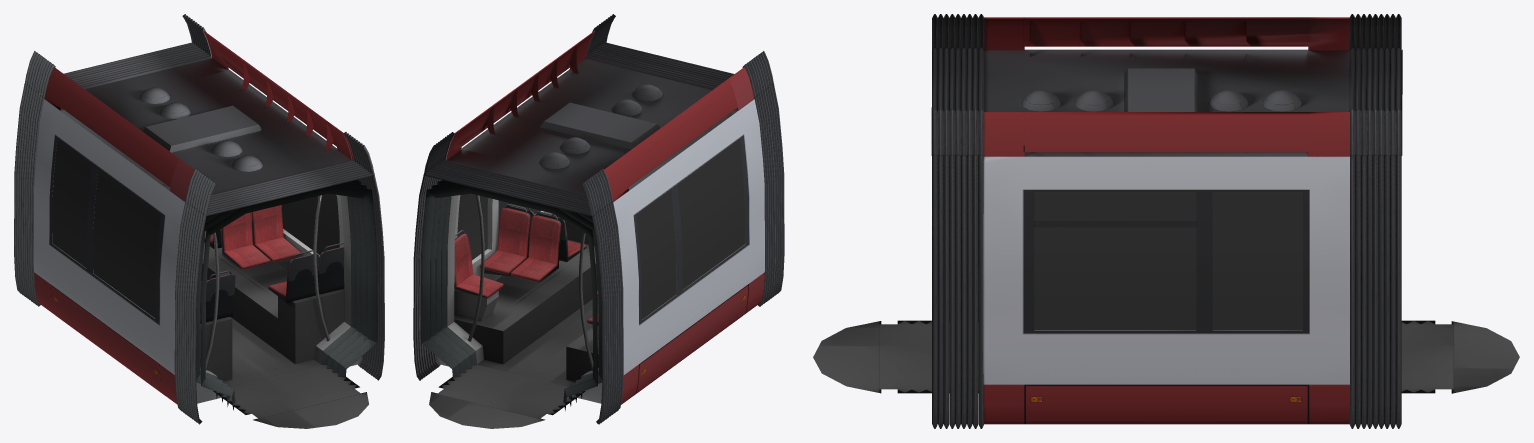
File: bkm_b.obj
The picture shows the model from 3 angles, left to right: view 1: azimuth 30°, elevation 25°; view 2: azimuth 150°, elevation 25°; view 3: azimuth 270°, elevation 25°; orthographic projection. The views are drawn at different scales.
Parts seen in each view (by area): view 1: body, salon, garm, steklo, int_garm; view 2: body, salon, garm, steklo, int_garm; view 3: body, garm, steklo, salon.
Boxes of the visible parts, box(x1,y1,x2,y2) form: body: box(33, 30, 362, 404); salon: box(52, 140, 368, 428); garm: box(14, 14, 384, 424); steklo: box(52, 138, 339, 318); int_garm: box(196, 180, 377, 410); body: box(437, 30, 764, 404); salon: box(429, 142, 745, 428); garm: box(413, 14, 784, 424); steklo: box(457, 139, 744, 319); int_garm: box(421, 180, 602, 410); body: box(983, 17, 1349, 424); garm: box(931, 14, 1402, 428); steklo: box(1034, 192, 1302, 329); salon: box(813, 320, 1519, 393).
Bounding box in the file's own units: 2.53 × 3.14 × 6.22.
11 materials, 11 textured.
